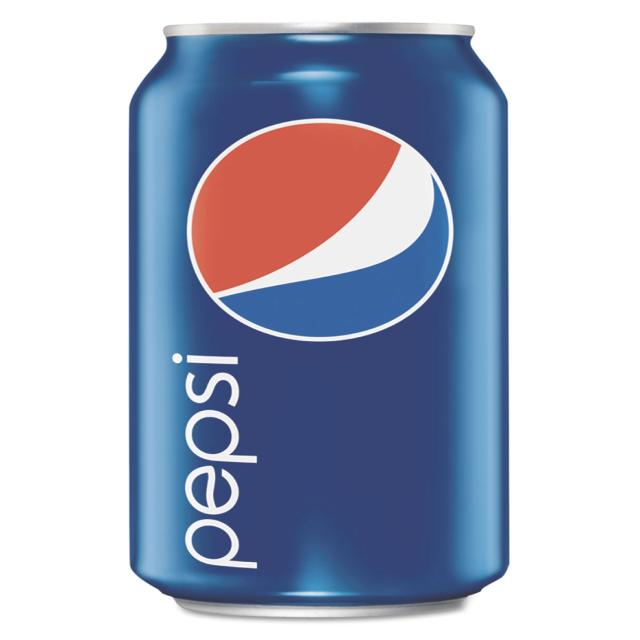recyclable: (85, 9, 550, 619)
